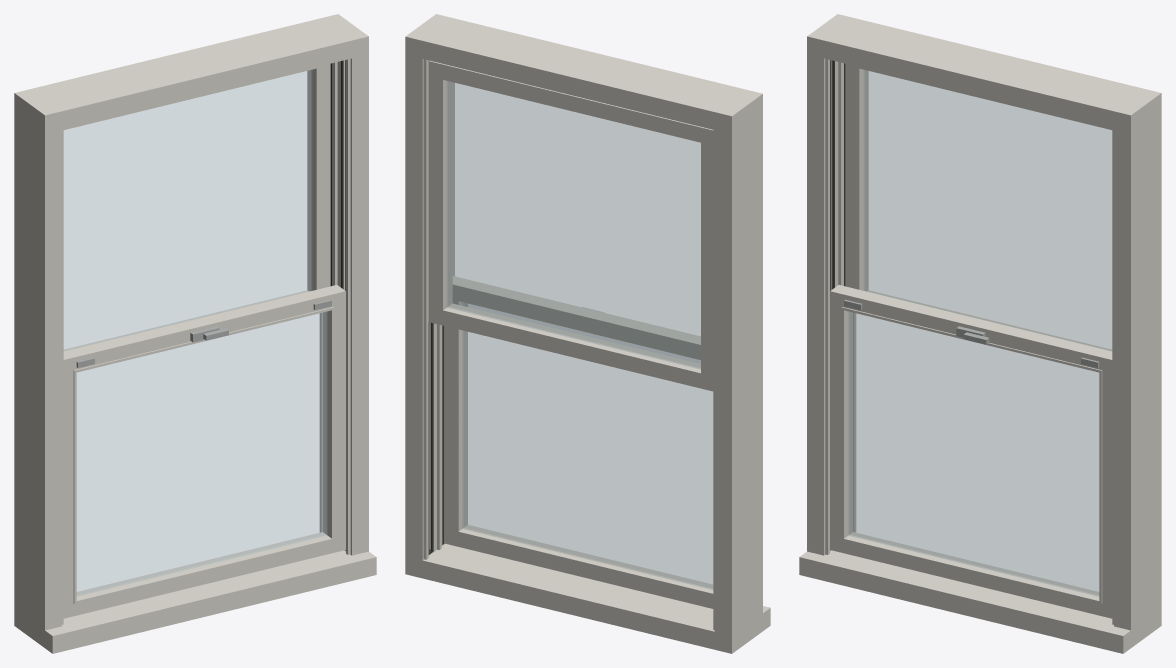
The picture shows the model from 3 angles, left to right: view 1: azimuth 30°, elevation 25°; view 2: azimuth 150°, elevation 25°; view 3: azimuth 330°, elevation 25°; orthographic projection.
Visible parts, largest first — view 1: Lower_sealed_glazing_solid, Upper_sealed_glazing_solid, Fixed_frame_head_jambs_sill, Lower_complete_rails_stiles, Interior_sill_projection, Upper_complete_rails_stiles, Lower_glazing_bead, 1_inner_jamb_stop, 1_divider_jamb_stop, Upper_glazing_bead, -1_inner_jamb_stop, Lower_1_enclosed_balance_case (+1 smaller); view 2: Fixed_frame_head_jambs_sill, Upper_sealed_glazing_solid, Lower_sealed_glazing_solid, Upper_complete_rails_stiles, Lower_complete_rails_stiles, 1_outer_jamb_stop, 1_divider_jamb_stop, -1_outer_jamb_stop, Upper_1_enclosed_balance_case, 1_inner_jamb_stop; view 3: Lower_sealed_glazing_solid, Upper_sealed_glazing_solid, Fixed_frame_head_jambs_sill, Lower_complete_rails_stiles, Interior_sill_projection, Upper_complete_rails_stiles, Lower_glazing_bead, -1_inner_jamb_stop, -1_divider_jamb_stop, Upper_glazing_bead, 1_inner_jamb_stop, Lower_-1_enclosed_balance_case (+1 smaller).
Boxes of the visible parts, box(x1,y1,x2,y2) form: Lower_sealed_glazing_solid: box(77, 312, 327, 596); Upper_sealed_glazing_solid: box(64, 70, 311, 350); Fixed_frame_head_jambs_sill: box(14, 14, 368, 647); Lower_complete_rails_stiles: box(63, 285, 345, 618); Interior_sill_projection: box(45, 551, 376, 653); Upper_complete_rails_stiles: box(63, 63, 330, 351); Lower_glazing_bead: box(73, 307, 334, 603); 1_inner_jamb_stop: box(346, 59, 350, 554); 1_divider_jamb_stop: box(332, 62, 337, 285); Upper_glazing_bead: box(63, 66, 318, 289); -1_inner_jamb_stop: box(62, 129, 63, 624); Lower_1_enclosed_balance_case: box(341, 60, 345, 550); Fixed_frame_head_jambs_sill: box(405, 14, 762, 653); Upper_sealed_glazing_solid: box(447, 81, 700, 369); Lower_sealed_glazing_solid: box(462, 303, 712, 589); Upper_complete_rails_stiles: box(428, 60, 713, 391); Lower_complete_rails_stiles: box(444, 276, 713, 608); 1_outer_jamb_stop: box(423, 59, 428, 559); 1_divider_jamb_stop: box(437, 324, 441, 549); -1_outer_jamb_stop: box(713, 130, 714, 629); Upper_1_enclosed_balance_case: box(428, 60, 433, 554); 1_inner_jamb_stop: box(452, 82, 454, 276); Lower_sealed_glazing_solid: box(848, 312, 1098, 596); Upper_sealed_glazing_solid: box(864, 70, 1111, 350); Fixed_frame_head_jambs_sill: box(807, 14, 1161, 647); Lower_complete_rails_stiles: box(830, 285, 1112, 618); Interior_sill_projection: box(799, 551, 1130, 653); Upper_complete_rails_stiles: box(845, 63, 1112, 351); Lower_glazing_bead: box(841, 307, 1102, 603); -1_inner_jamb_stop: box(825, 59, 829, 554); -1_divider_jamb_stop: box(838, 62, 843, 285); Upper_glazing_bead: box(857, 66, 1112, 289); 1_inner_jamb_stop: box(1112, 129, 1113, 624); Lower_-1_enclosed_balance_case: box(830, 60, 834, 550).
Bounding box in the file's own units: 0.854 × 1.34 × 0.175.
